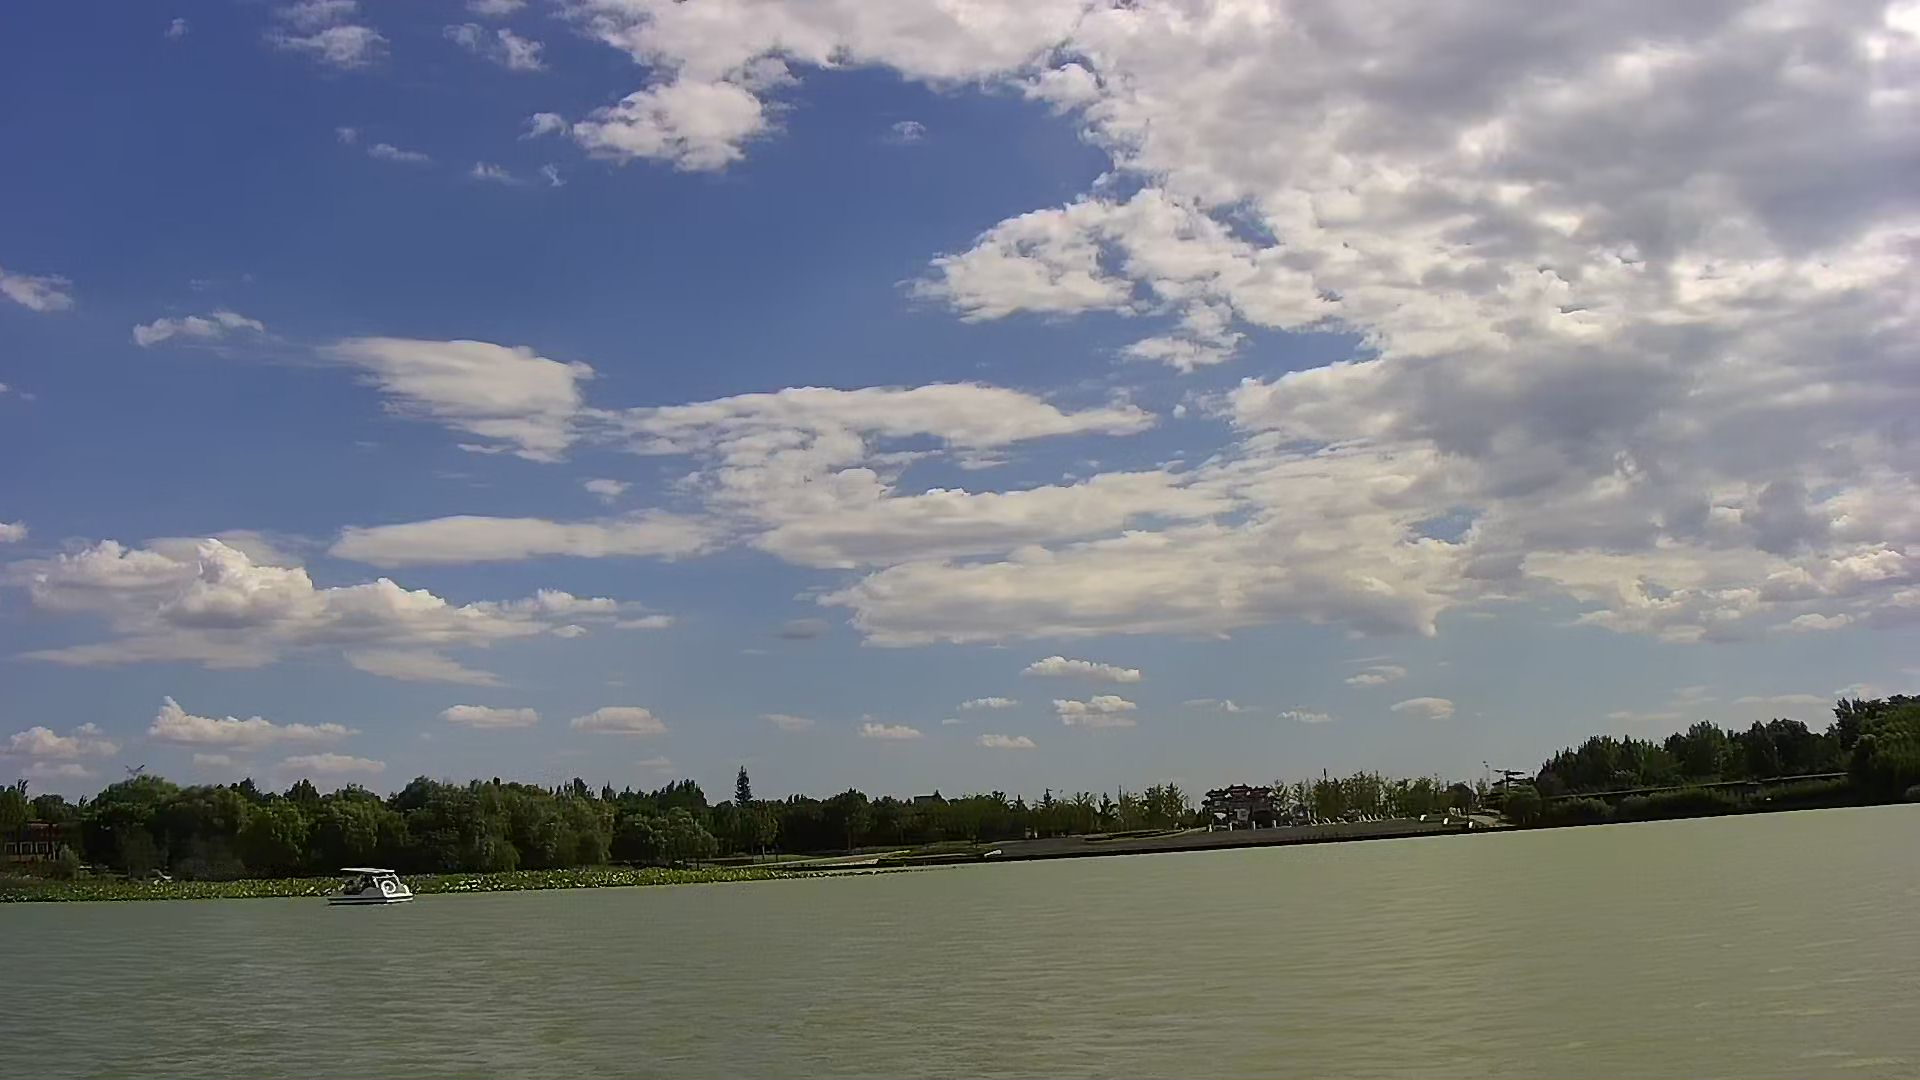boat: (316, 860, 417, 910)
